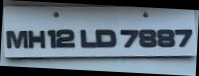character: (5, 30, 28, 49), (55, 28, 75, 48), (137, 28, 157, 48), (119, 28, 138, 48), (95, 29, 116, 47), (155, 28, 174, 47), (27, 29, 45, 48), (174, 28, 192, 47), (79, 28, 96, 48), (45, 29, 56, 49)
